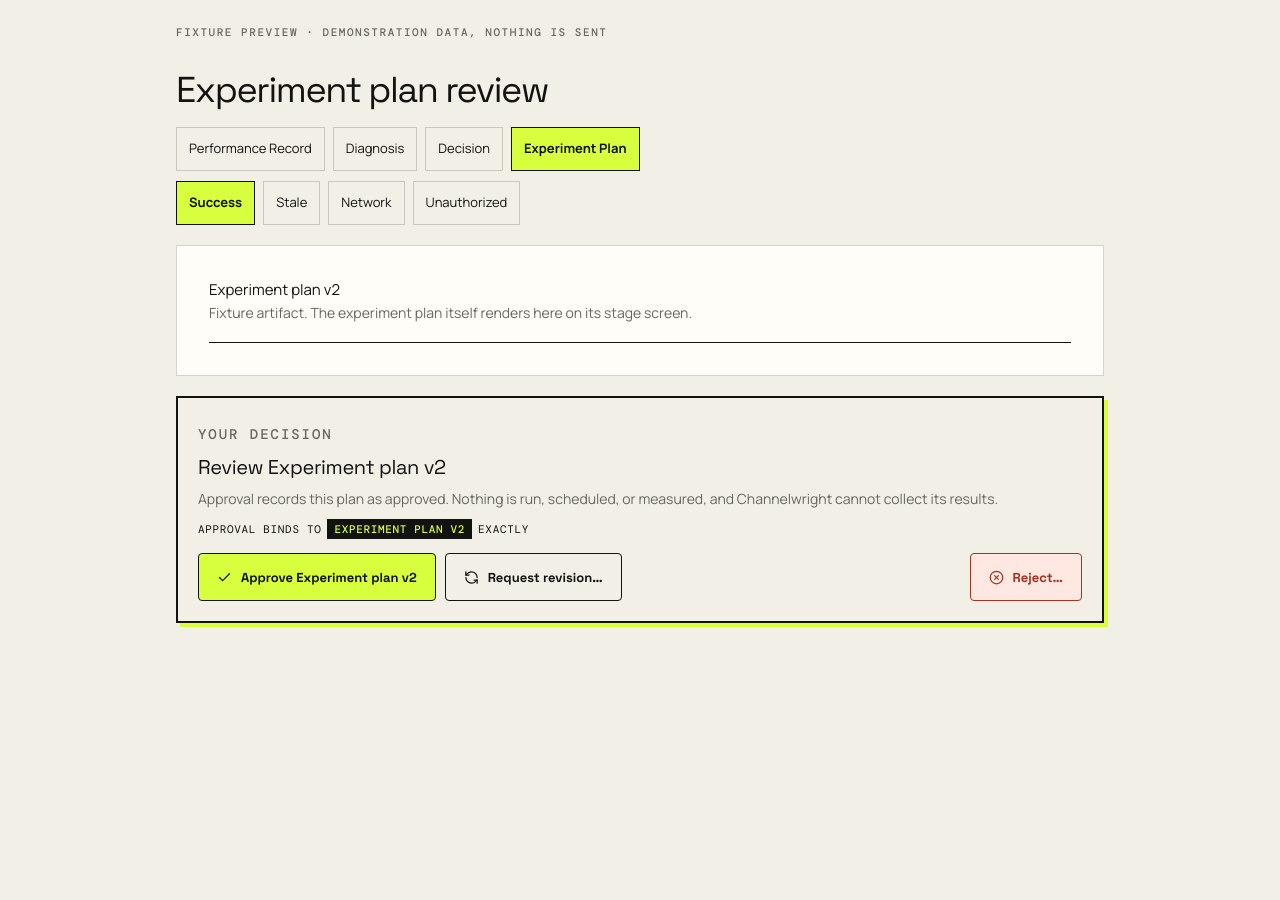
Test: ReviewScreen fixture preview behavior › moves focus to the fixture's status notice after a successful decision
What coordinates should you click on to do the following:
click the button "Approve Experiment plan v2"
I would click on:
 (317, 577)
Its box is [198,553,436,601].
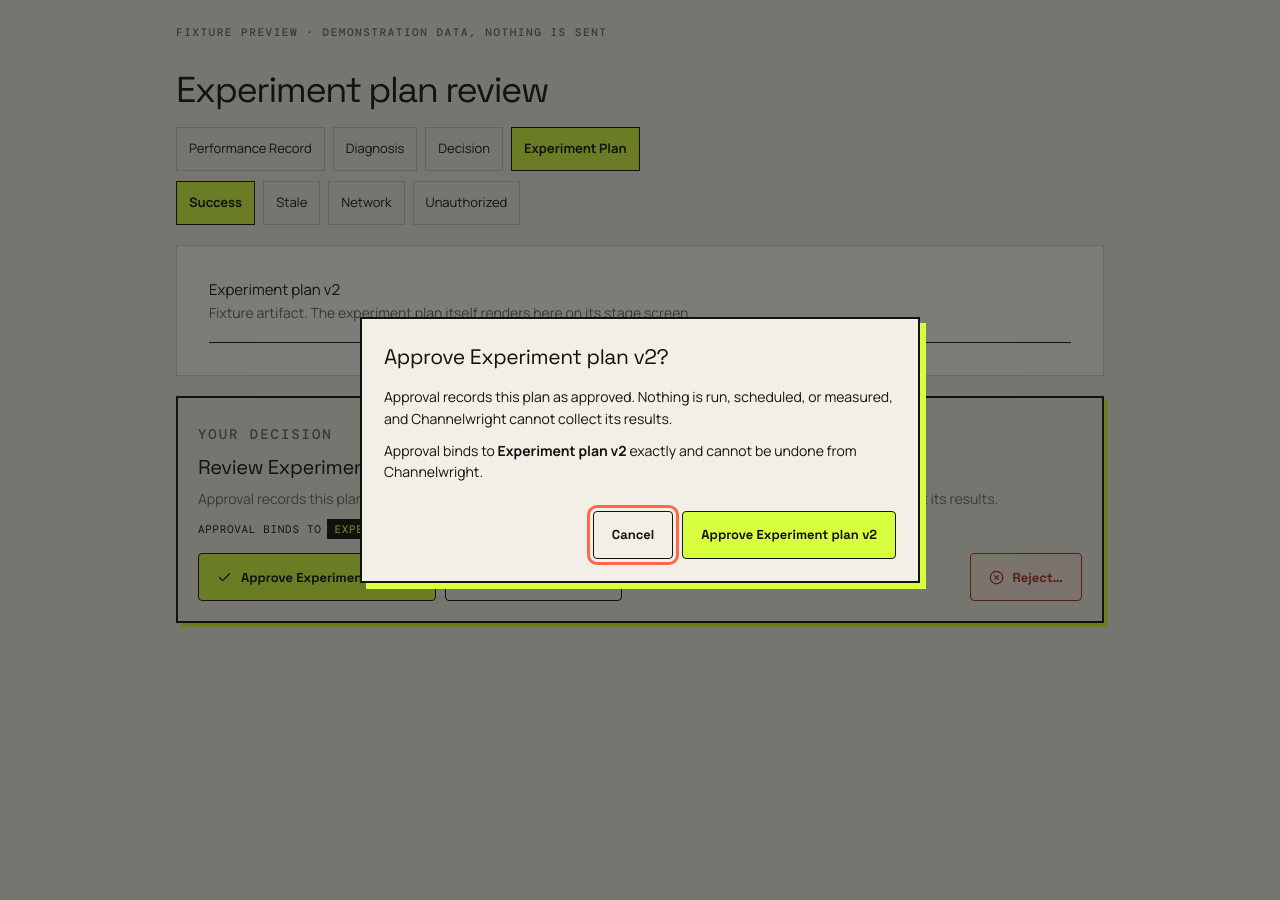
What coordinates should you click on to do the following:
click the button "Approve Experiment plan v2"
I would click on:
 (789, 535)
Its box is [682,511,896,559].
Wait 1000 ms
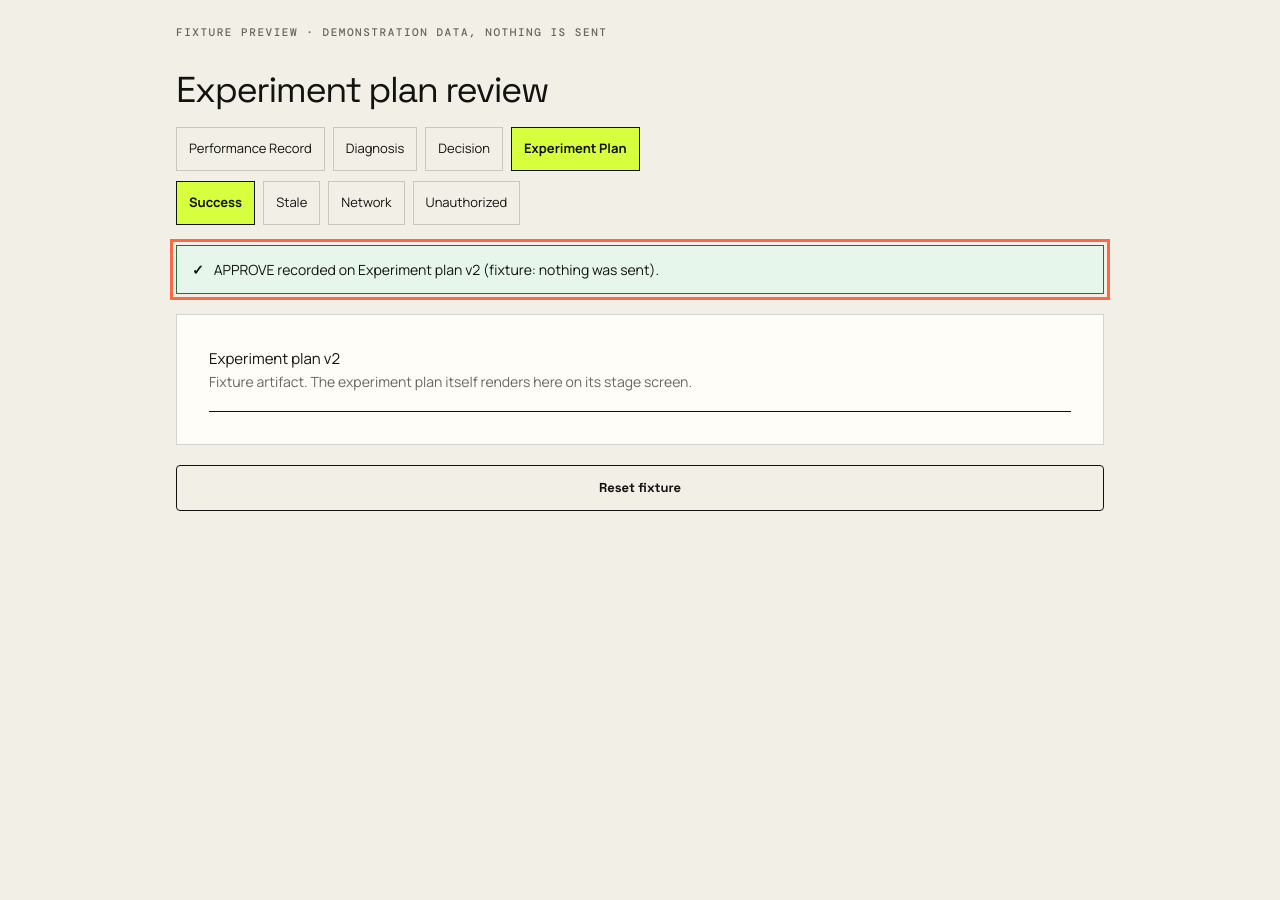
Expected: the message shows "APPROVE recorded on Experiment plan v2 (fixture: nothing was sent)", [214,260,659,278]
